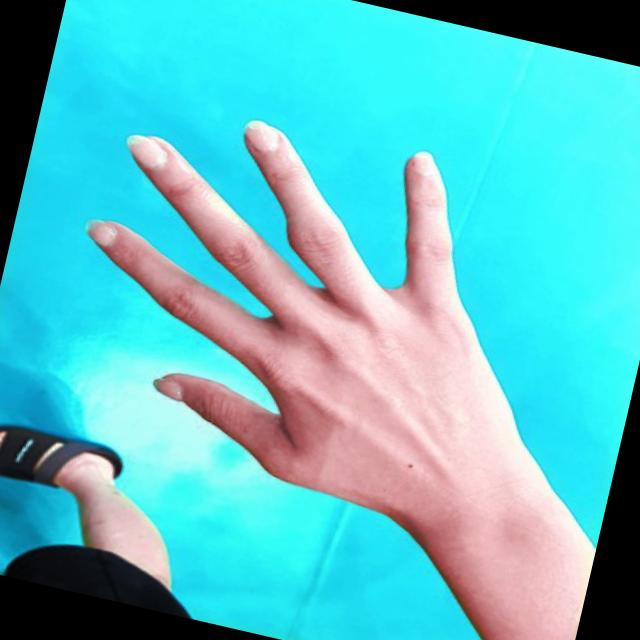Nail: (127, 133, 165, 171), (244, 118, 278, 152), (85, 217, 115, 246), (151, 374, 179, 399), (408, 150, 433, 176)
